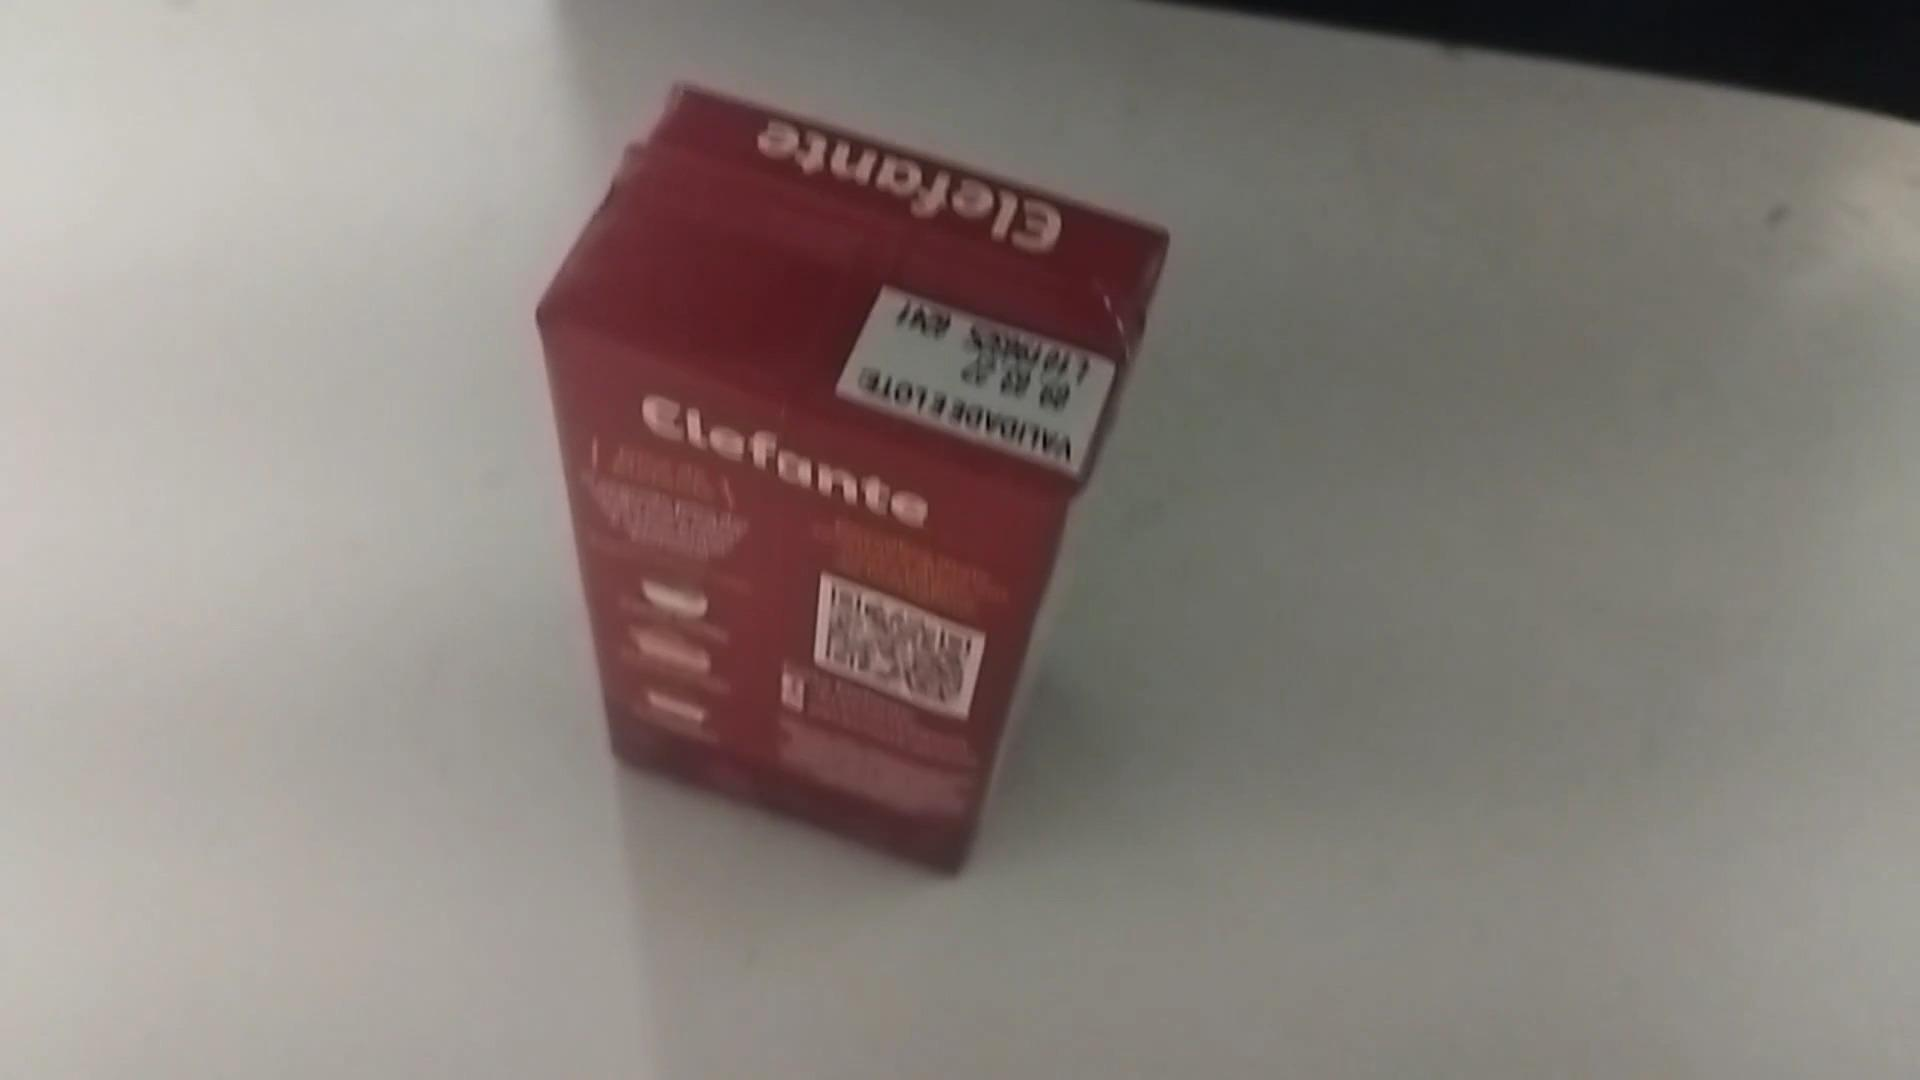tomate: (545, 71, 1184, 947)
